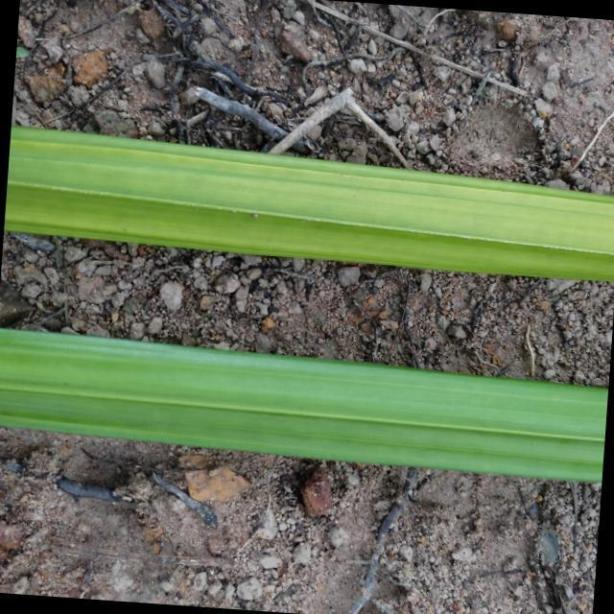nitrogen: (7, 121, 614, 281), (0, 323, 614, 481)
